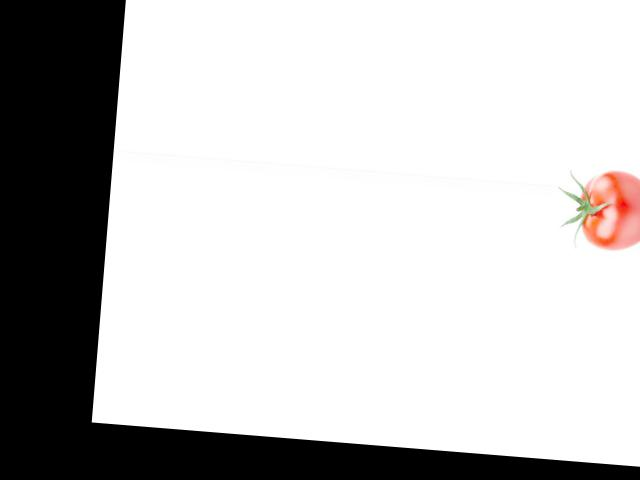tomato: (577, 167, 640, 252)
